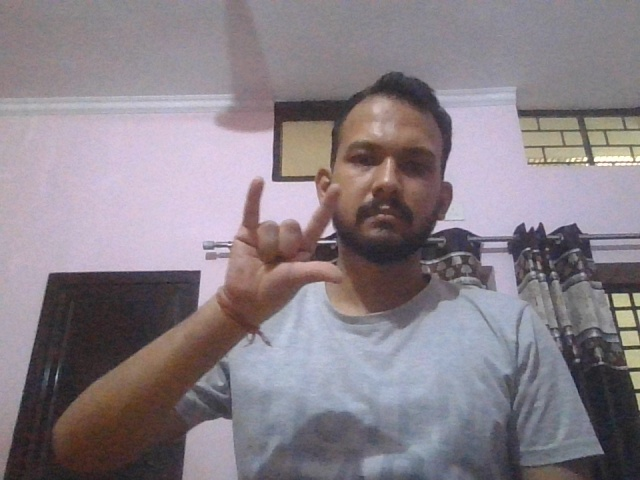iloveyou: (224, 177, 346, 316)
